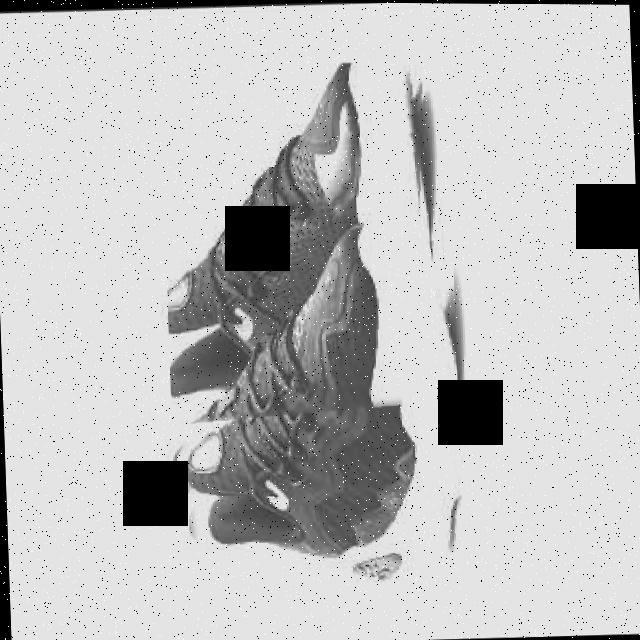shoe: (160, 223, 464, 589), (159, 58, 435, 427)
